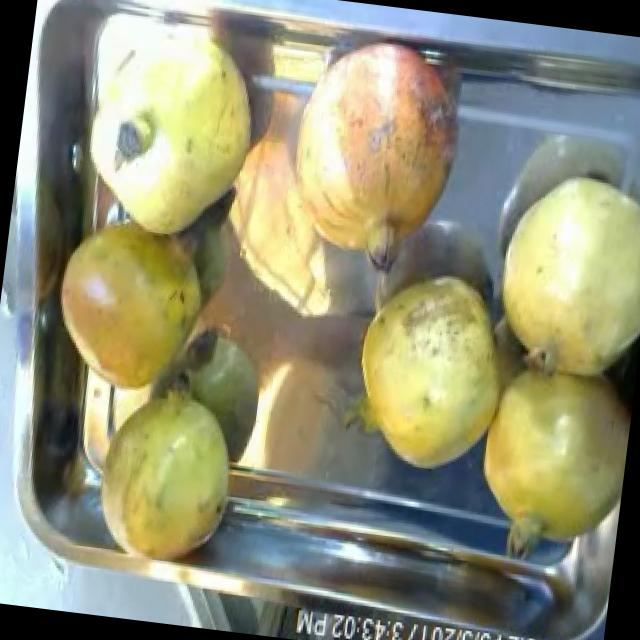fruit: (60, 2, 278, 258), (265, 19, 483, 269), (322, 244, 526, 492), (453, 334, 638, 570), (471, 147, 640, 401), (36, 195, 226, 418), (75, 358, 256, 582)
